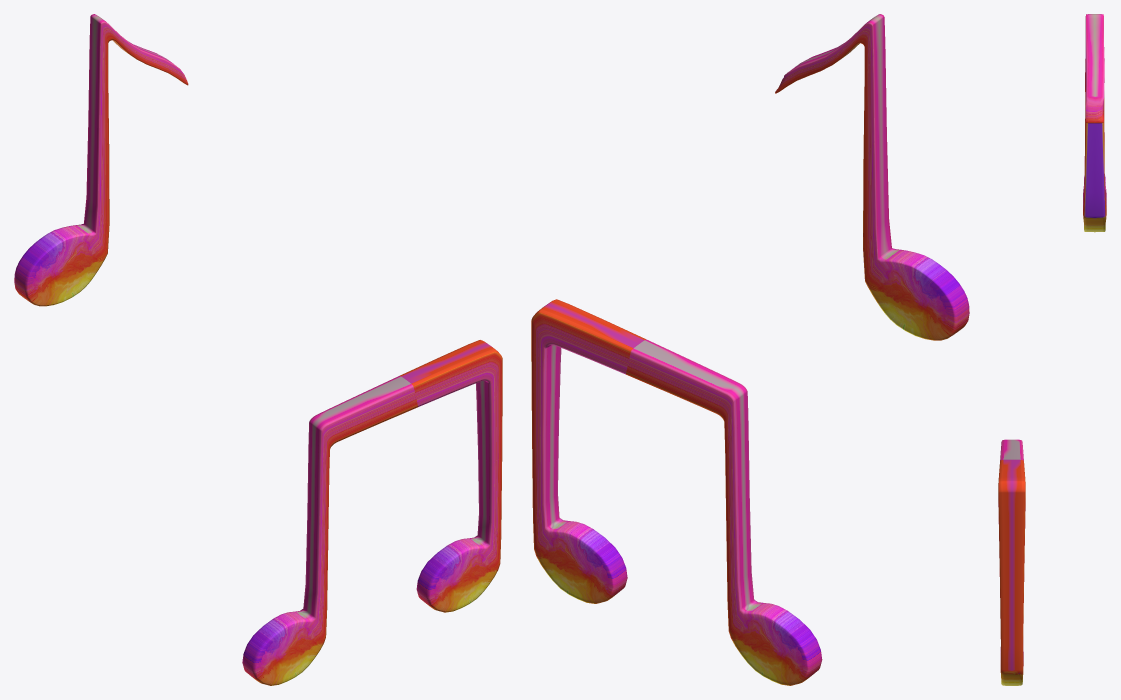
The model's file is music_notes.obj.
The picture shows the model from 3 angles, left to right: view 1: azimuth 30°, elevation 25°; view 2: azimuth 150°, elevation 25°; view 3: azimuth 270°, elevation 25°; orthographic projection. The views are drawn at different scales.
Visible parts, largest first — view 1: musical_note.001; view 2: musical_note.001; view 3: musical_note.001.
Boxes of the visible parts, left/top/right/bottom form: musical_note.001: left=14, top=14, right=502, bottom=685; musical_note.001: left=531, top=14, right=969, bottom=685; musical_note.001: left=998, top=14, right=1106, bottom=685.
Size of the model in its own units: 0.8077 by 1.19 by 0.2056.
1 material, 1 textured.
